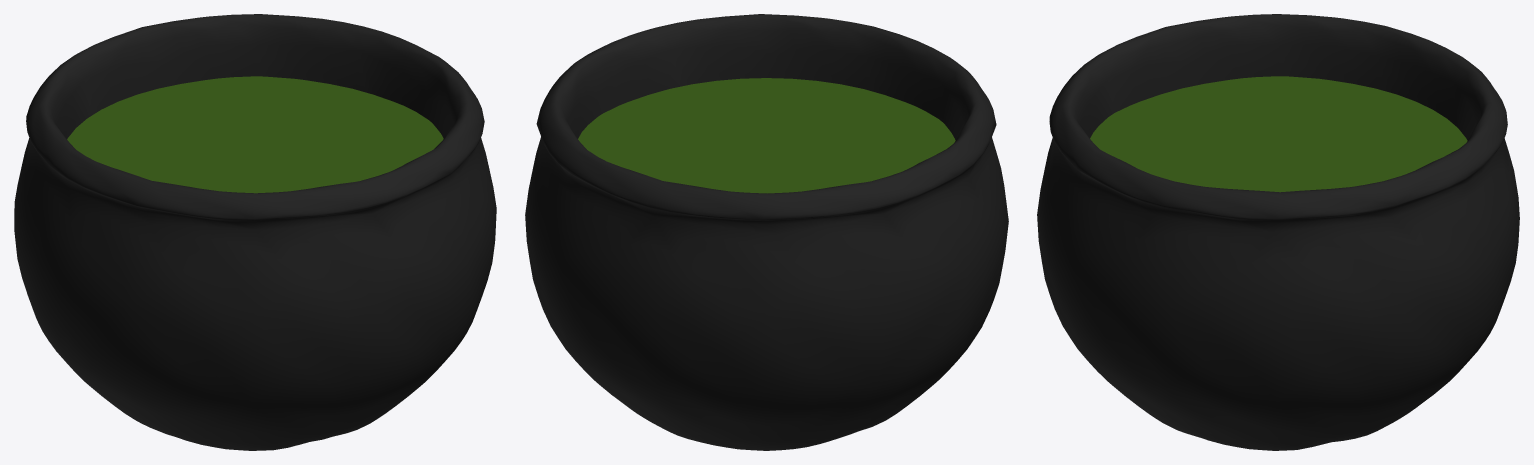
File: cloudron.fbx
3 views of the same model, side by side, from view 1: azimuth 30°, elevation 25°; view 2: azimuth 150°, elevation 25°; view 3: azimuth 270°, elevation 25° (orthographic).
Parts seen in each view (by area): view 1: Cauldron_Circle; view 2: Cauldron_Circle; view 3: Cauldron_Circle.
Part boxes in pixels (left/top/right/bottom): Cauldron_Circle: left=14, top=14, right=496, bottom=450; Cauldron_Circle: left=525, top=14, right=1008, bottom=450; Cauldron_Circle: left=1037, top=14, right=1519, bottom=450.
Size of the model in its own units: 169 by 115 by 169.
